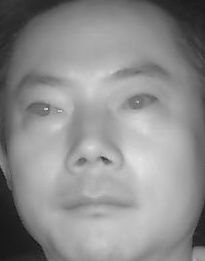eye: (24, 97, 68, 123), (116, 90, 160, 116)
mouth: (60, 181, 141, 225)
